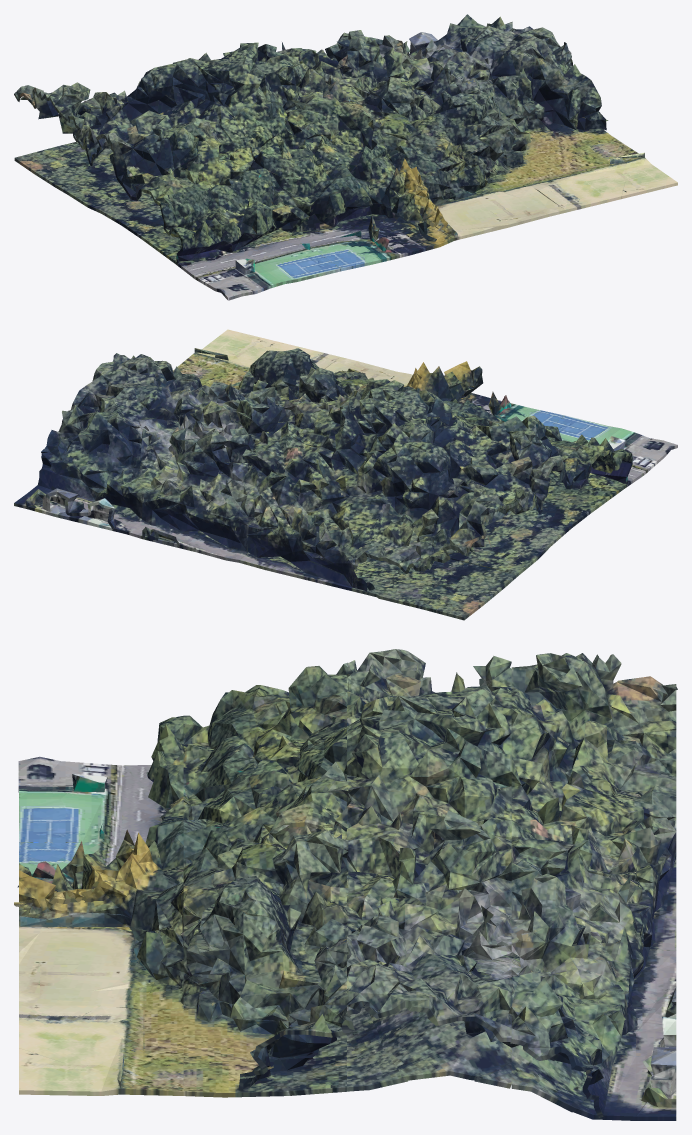
Rendered from Split27.fbx.
The picture shows the model from 3 angles, top to bottom: view 1: azimuth 30°, elevation 25°; view 2: azimuth 150°, elevation 25°; view 3: azimuth 270°, elevation 25°; orthographic projection. The views are drawn at different scales.
Parts seen in each view (by area): view 1: BuildingMesh-00039; view 2: BuildingMesh-00039; view 3: BuildingMesh-00039.
Boxes of the visible parts, left/top/right/bottom form: BuildingMesh-00039: left=14, top=14, right=677, bottom=300; BuildingMesh-00039: left=14, top=329, right=677, bottom=620; BuildingMesh-00039: left=14, top=649, right=677, bottom=1120.
Size of the model in its own units: 196 by 52.94 by 161.
Materials: 6 (6 with a texture image).
